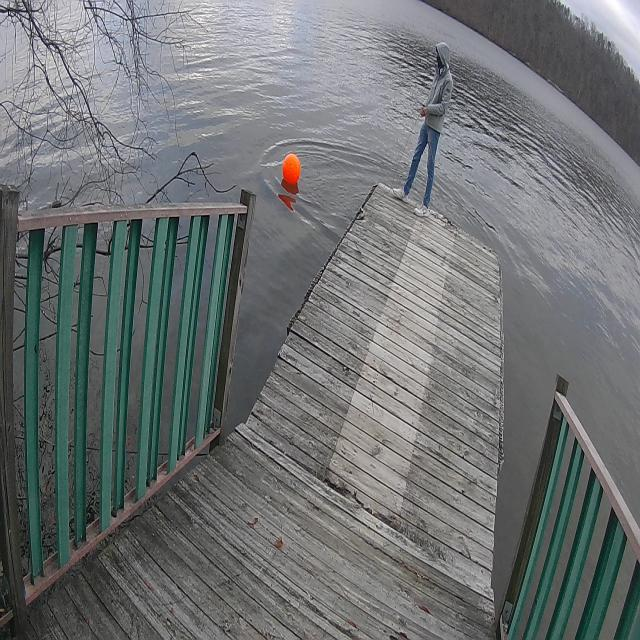Buoy: (280, 148, 301, 193)
